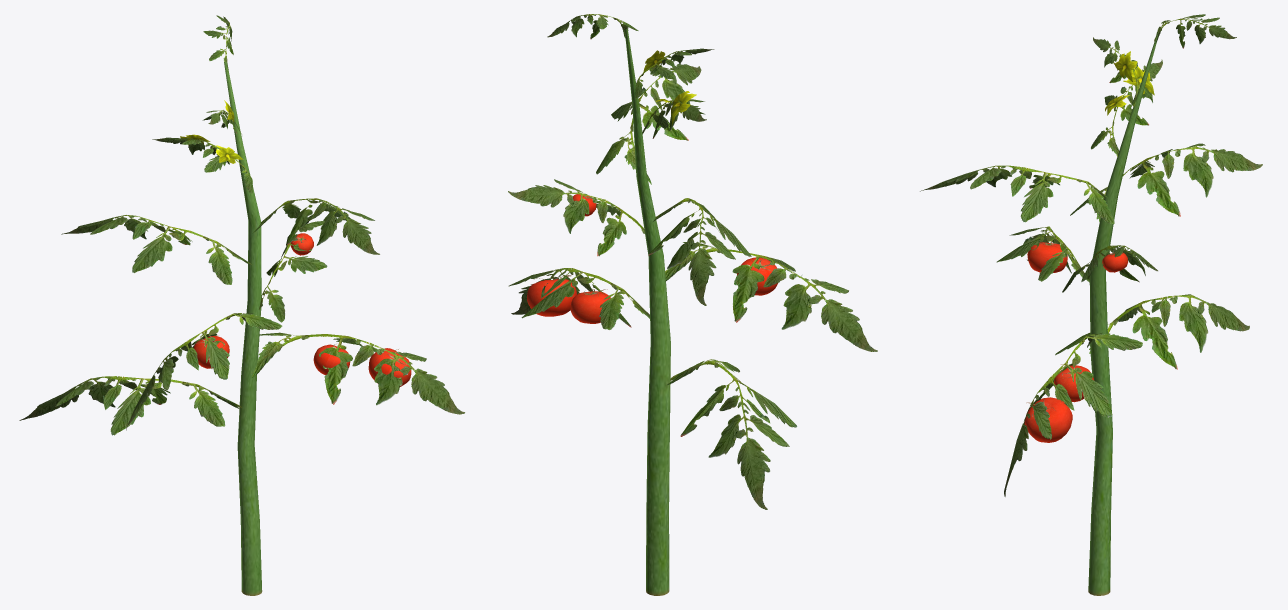
Rendered from tomato_plant.glb.
3 views of the same model, side by side, from view 1: azimuth 30°, elevation 25°; view 2: azimuth 150°, elevation 25°; view 3: azimuth 270°, elevation 25° (orthographic). The views are drawn at different scales.
Visible parts, largest first — view 1: Object_2; view 2: Object_2; view 3: Object_2.
Part boxes in pixels (box(x1,y1,x2,y2)): Object_2: box(19, 15, 464, 595); Object_2: box(508, 14, 877, 595); Object_2: box(920, 14, 1262, 595).
Bounding box in the file's own units: 208 × 312 × 176.
1 material, 1 textured.
